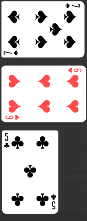4H: (5, 113, 21, 120)
5C: (50, 192, 58, 210)
7C: (3, 49, 20, 56)
